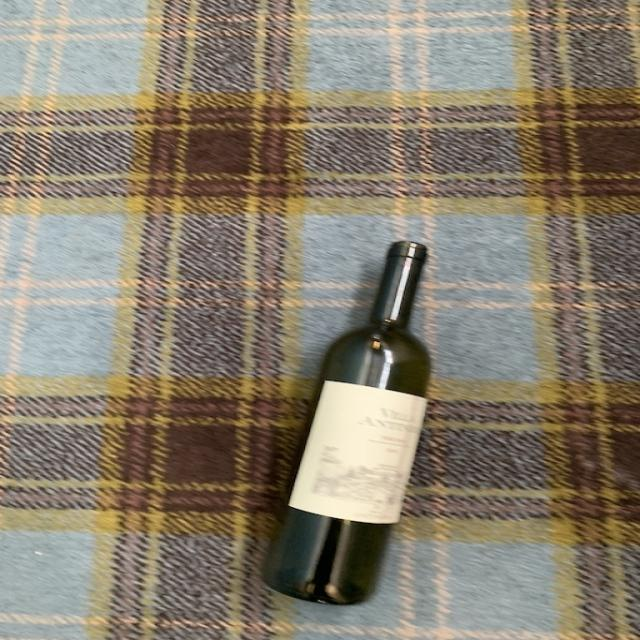litter: (255, 230, 446, 614)
